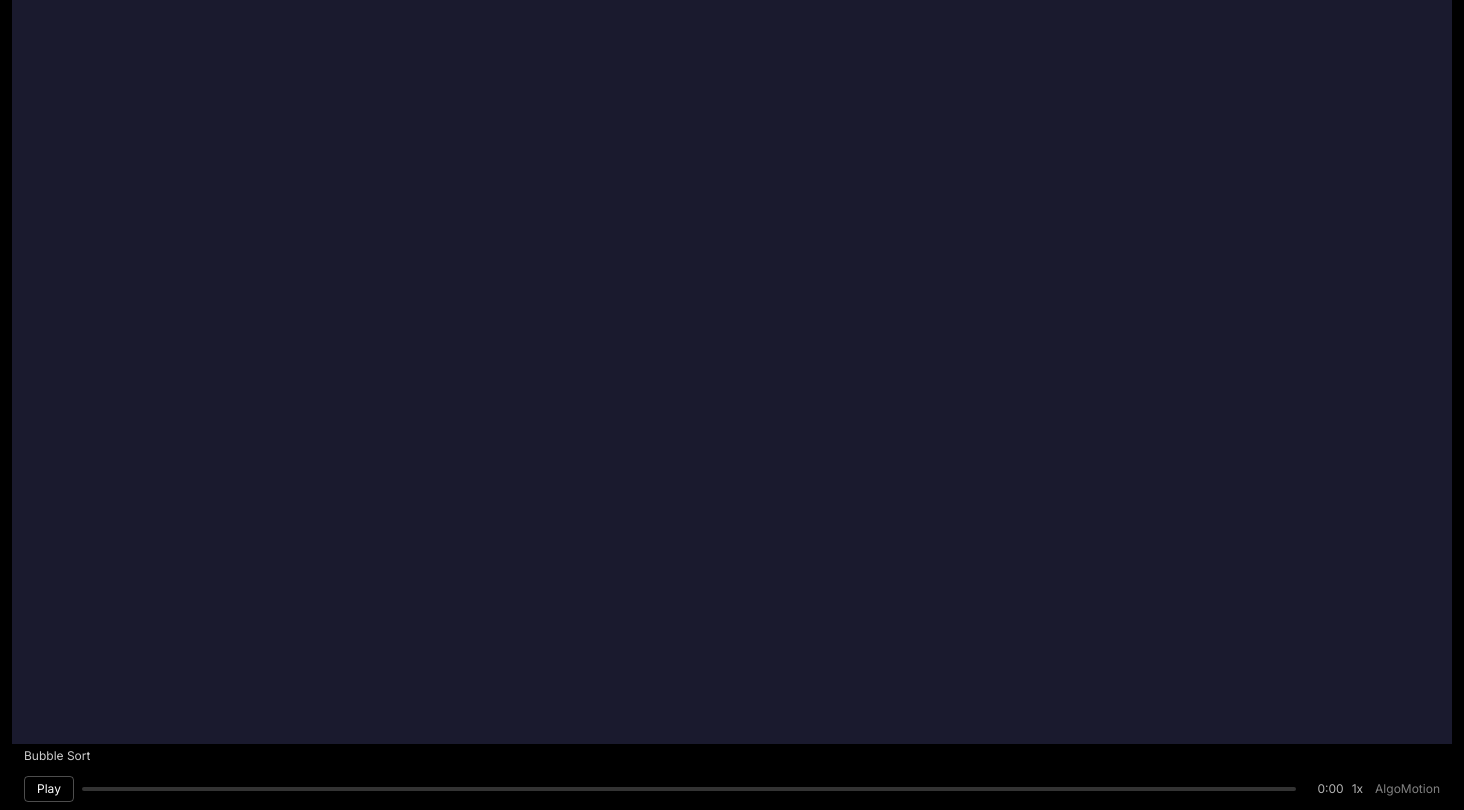
Scenario: EmbedPlayer › cycles speed on speed button click
The image size is (1464, 810).
(page scrolled)
Click the button "1x" at (1357, 789), box [1352,781,1363,797]
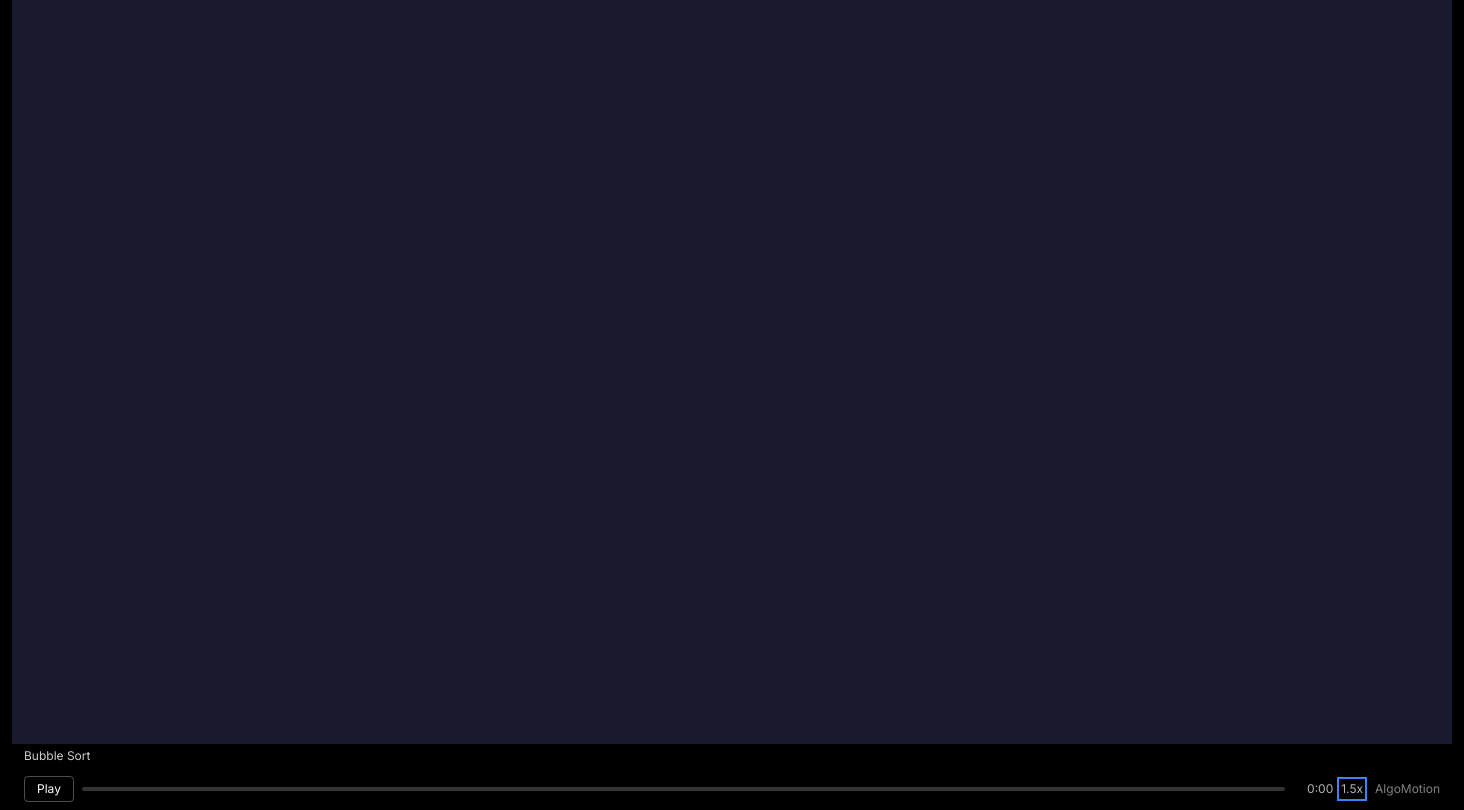
Check: the button "1.5x" is shown, box [1341,781,1363,797]
